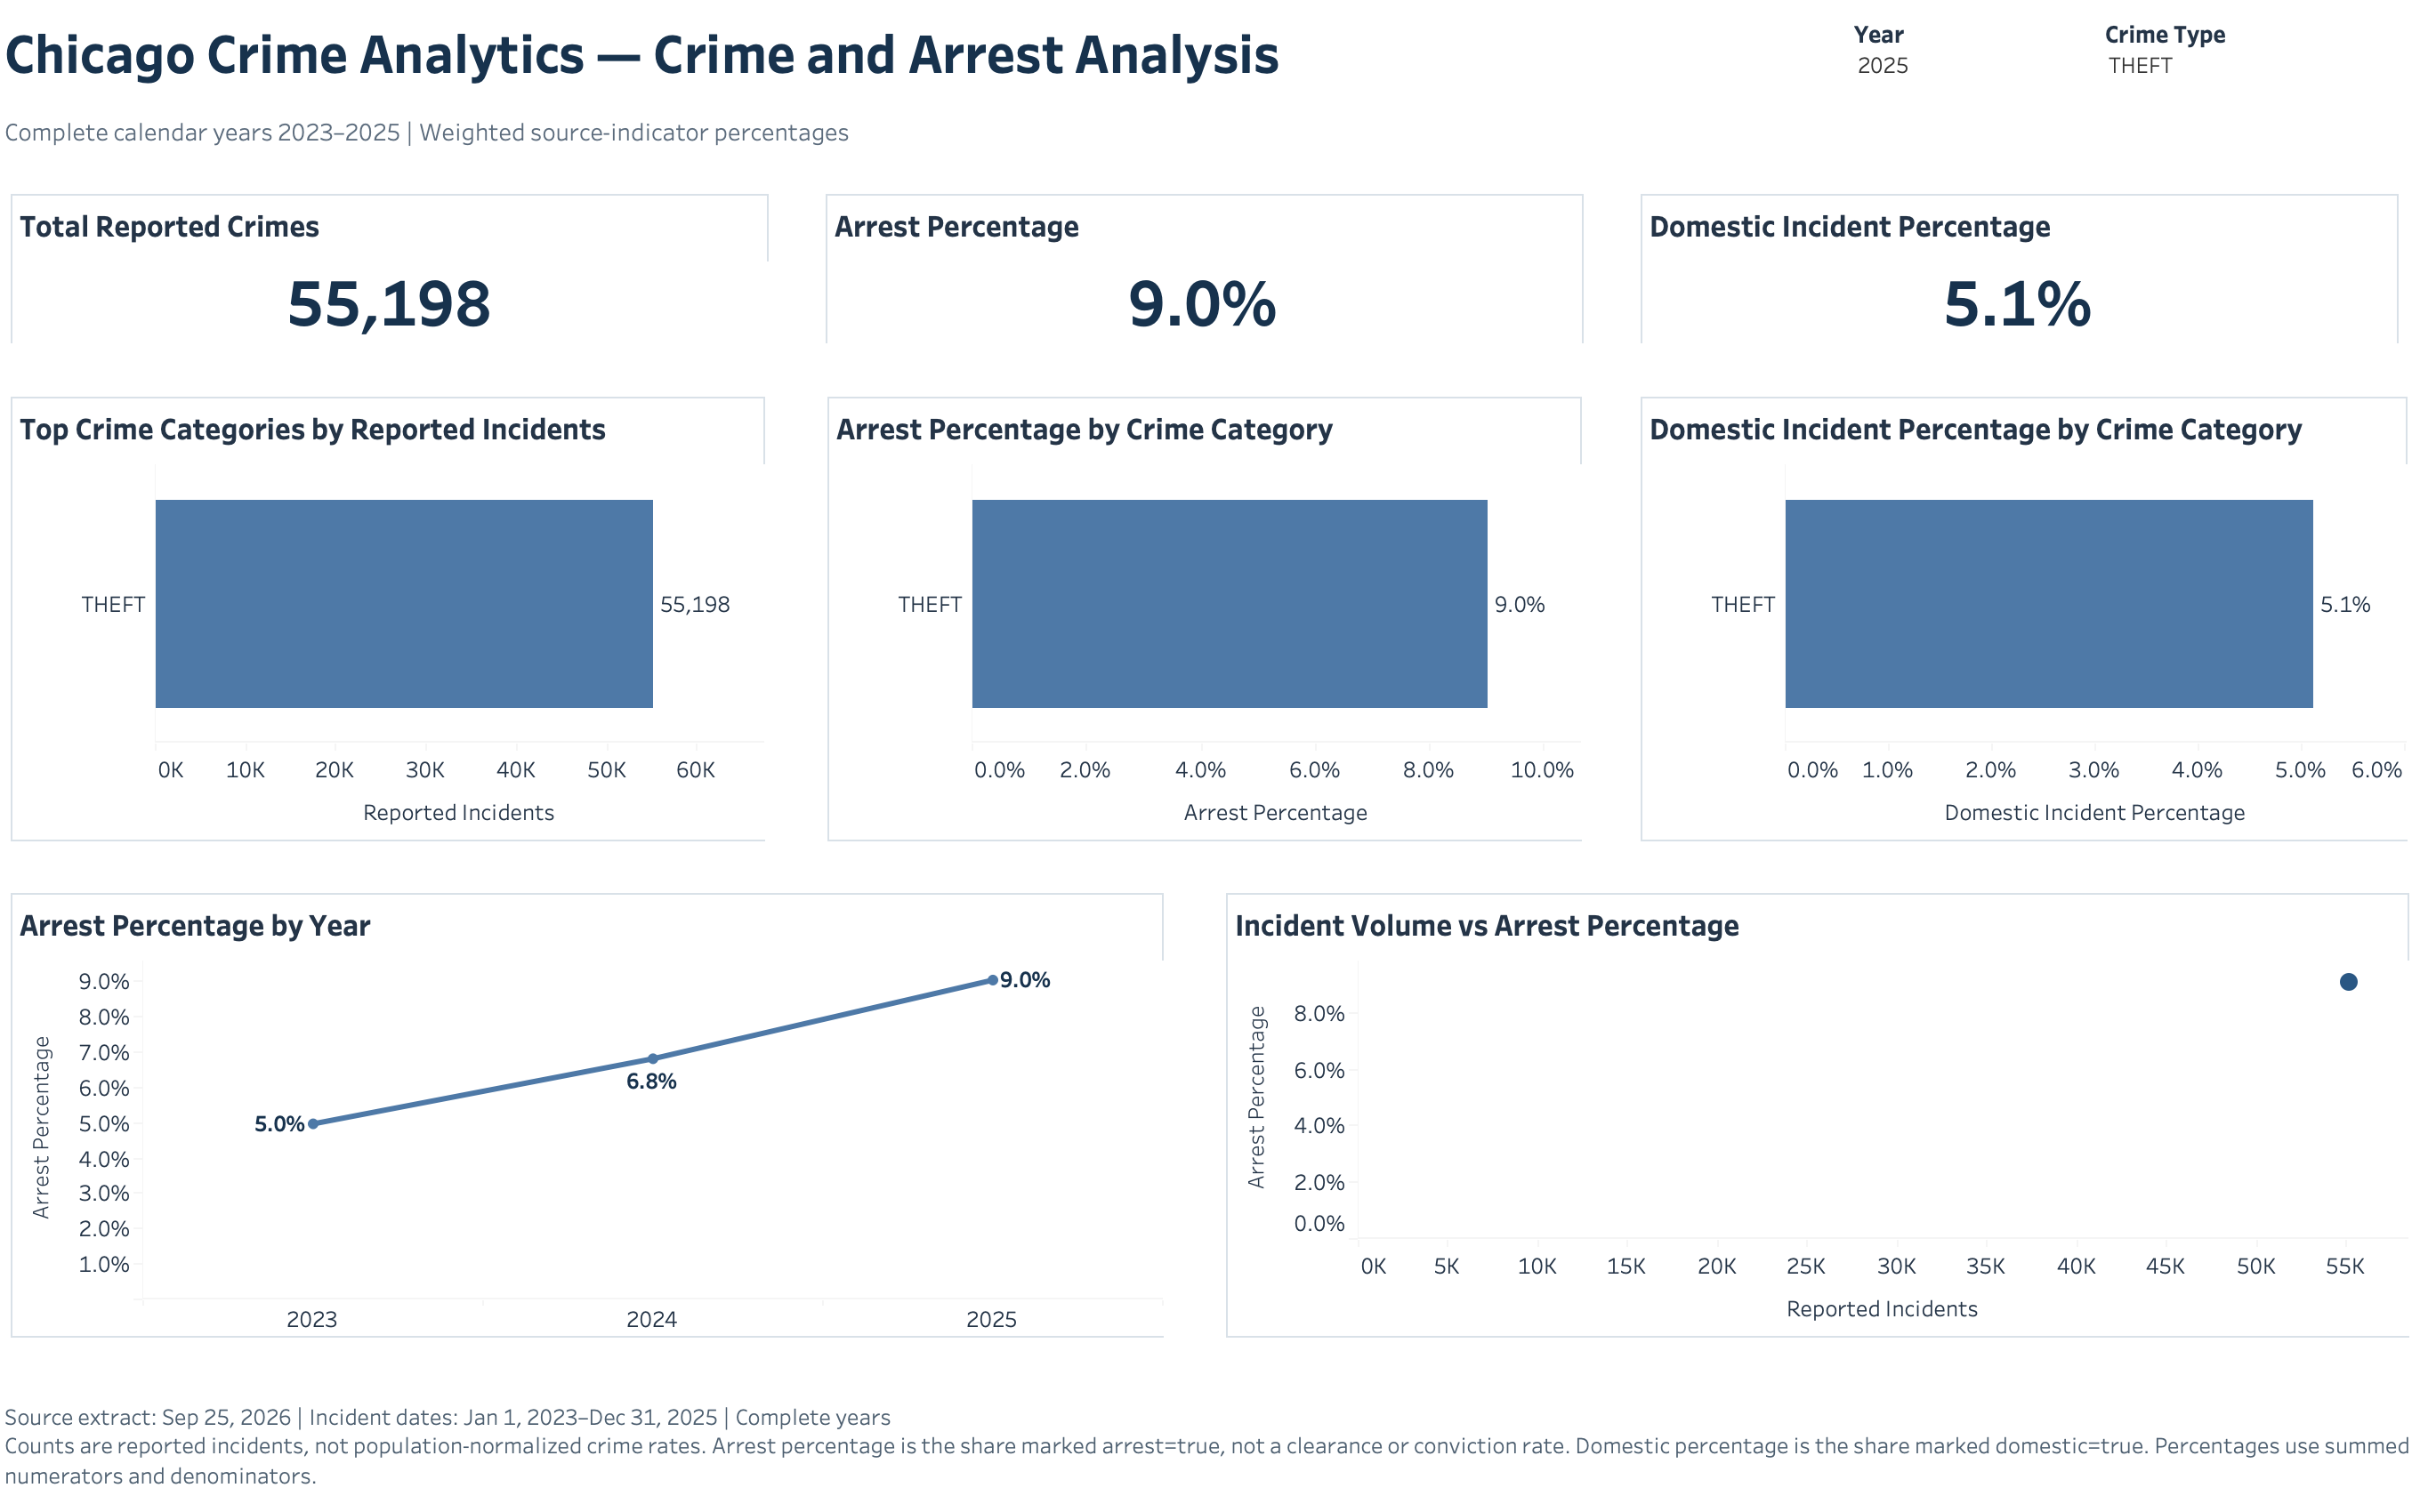

The page's visual inventory and layout, read from the dashboard file:
{"tool":"tableau","page":{"name":"Crime and Arrest Analysis","canvas":[1360,850],"ordinal":3},"visuals":[{"type":"title","box":[24.5,10.2,979.2,61.2]},{"type":"parameter","param":"[Parameters].[pSelectedYear]","box":[1033.6,18.7,122.4,44.2]},{"type":"parameter","param":"[Parameters].[pCrimeType]","box":[1169.6,18.7,170,44.2]},{"type":"text","box":[24.5,66.3,979.2,30.6]},{"type":"worksheet","title":"Total Reported Crimes","mark":"Text","box":[24.5,110.5,424.3,93.5]},{"type":"worksheet","title":"P4 Arrest Percentage KPI","mark":"Text","box":[467.8,110.5,424.3,93.5]},{"type":"worksheet","title":"P4 Domestic Percentage KPI","mark":"Text","box":[911.2,110.5,424.3,93.5]},{"type":"worksheet","title":"Crime Category Distribution","mark":"Bar","rows":["primary_type"],"cols":["reported_incident_count"],"box":[24.5,221,421.6,255]},{"type":"worksheet","title":"P4 Arrest Percentage by Category","mark":"Bar","rows":["primary_type"],"cols":["Calculation_Page4ArrestPercentage"],"box":[469.2,221,421.6,255]},{"type":"worksheet","title":"P4 Domestic Percentage by Category","mark":"Bar","rows":["primary_type"],"cols":["Calculation_Page4DomesticPercentage"],"box":[911.2,221,428.4,255]},{"type":"worksheet","title":"P4 Arrest Percentage Trend","mark":"Line","rows":["Calculation_Page4ArrestPercentage"],"cols":["crime_year"],"box":[24.5,493,639.2,255]},{"type":"worksheet","title":"P4 Volume vs Arrest Percentage","mark":"Circle","rows":["Calculation_Page4ArrestPercentage"],"cols":["reported_incident_count"],"box":[685.4,493,655.5,255]},{"type":"text","box":[24.5,765,1316.5,72.2]}]}

Visuals, with their boxes in screenshot pixels (x1, y1, x2, y2), scaled from the page's 1360x850 canvas onto the 2420x1512 screenshot:
title: Rect(44, 18, 1786, 127)
parameter: Rect(1839, 33, 2057, 112)
parameter: Rect(2081, 33, 2384, 112)
text: Rect(44, 118, 1786, 173)
"Total Reported Crimes" worksheet (Text marks): Rect(44, 197, 799, 363)
"P4 Arrest Percentage KPI" worksheet (Text marks): Rect(833, 197, 1587, 363)
"P4 Domestic Percentage KPI" worksheet (Text marks): Rect(1621, 197, 2376, 363)
"Crime Category Distribution" worksheet (Bar marks): Rect(44, 393, 794, 847)
"P4 Arrest Percentage by Category" worksheet (Bar marks): Rect(835, 393, 1585, 847)
"P4 Domestic Percentage by Category" worksheet (Bar marks): Rect(1621, 393, 2384, 847)
"P4 Arrest Percentage Trend" worksheet (Line marks): Rect(44, 877, 1181, 1331)
"P4 Volume vs Arrest Percentage" worksheet (Circle marks): Rect(1220, 877, 2386, 1331)
text: Rect(44, 1361, 2386, 1489)
